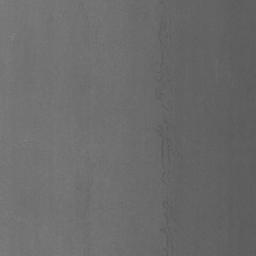Silk spot: (161, 138, 174, 160), (159, 21, 166, 44), (156, 125, 168, 137)
